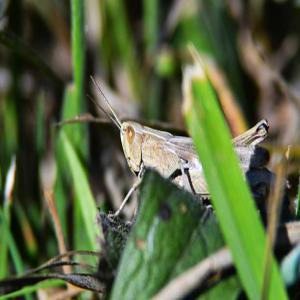locust: (92, 80, 264, 224)
